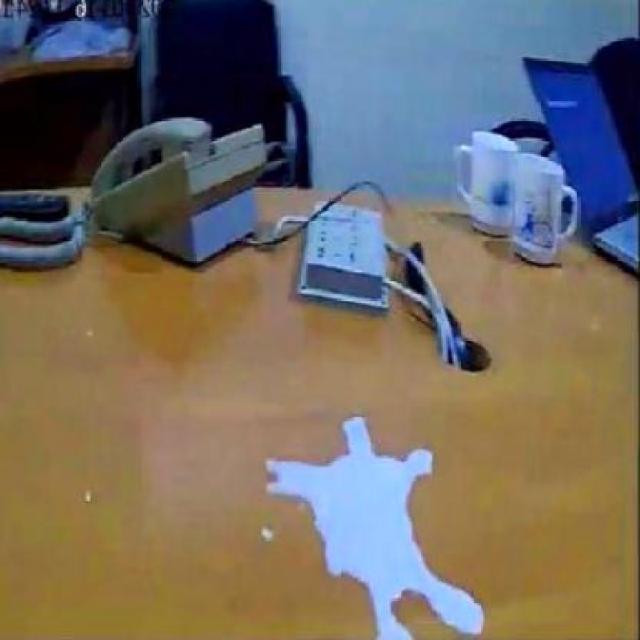spillage: (265, 416, 485, 640)
